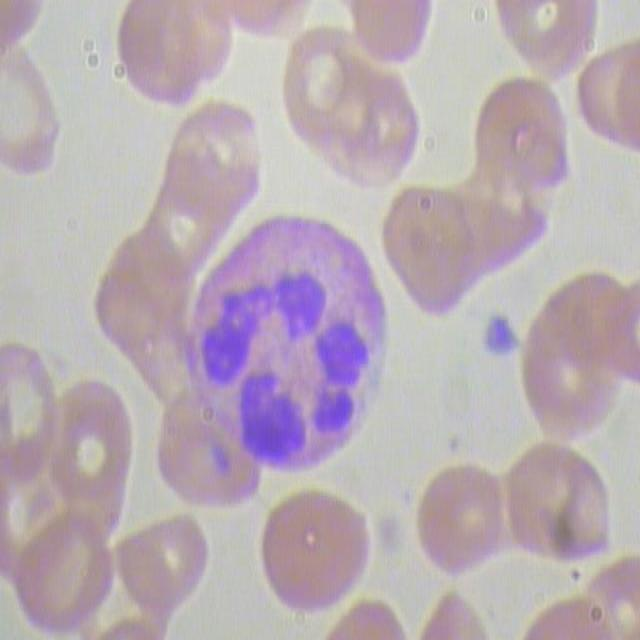Platelets: (479, 306, 525, 364)
RBC: (514, 262, 631, 449), (255, 484, 372, 620), (372, 183, 483, 325), (501, 439, 612, 581), (464, 79, 575, 221), (160, 96, 271, 238), (321, 58, 432, 200), (113, 1, 235, 119), (44, 378, 143, 516), (411, 460, 505, 592), (114, 510, 207, 628), (481, 1, 602, 90)
WBC: (180, 206, 395, 488)
